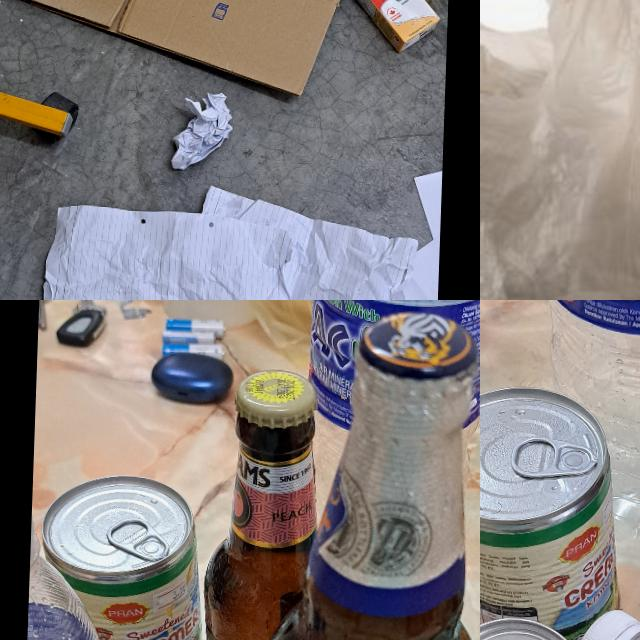aba de lata: (514, 437, 596, 478), (106, 516, 171, 561)
caixinha: (344, 0, 442, 53)
garrafa de vidro: (246, 308, 480, 640), (198, 368, 329, 640)
garrafa plástica: (305, 300, 480, 492), (516, 300, 640, 563), (17, 549, 140, 640)
lata: (480, 383, 629, 640), (35, 474, 206, 640)
papel: (35, 177, 420, 300), (382, 162, 441, 300), (169, 90, 233, 170)
papelão: (0, 0, 436, 105)
sacola plástica: (480, 0, 640, 300)
tampa plástica: (572, 606, 640, 640)
